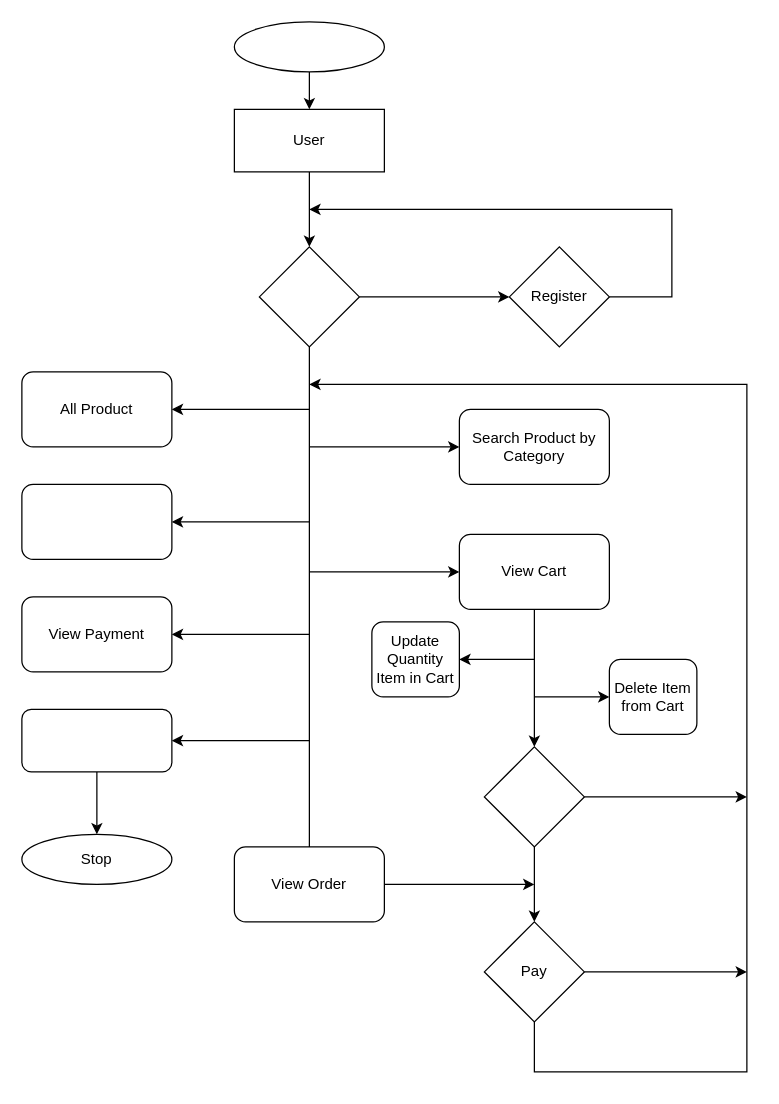
The diagram is 779 pixels wide and 1104 high, and some of its shapes have lost their labels. The shapes that lost their labels are listed below. From the top down, each one's centre as x and y in pixels, then its label:
[308,46]: Start
[308,296]: Login
[96,521]: View Product
[96,740]: Logout
[533,796]: Order
